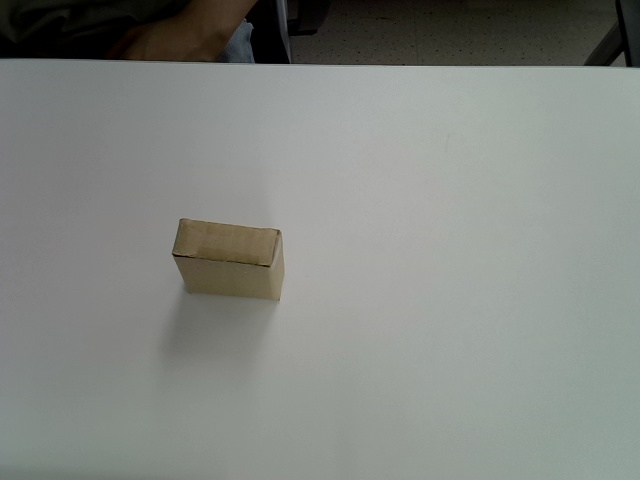normal: (171, 218, 286, 303)
